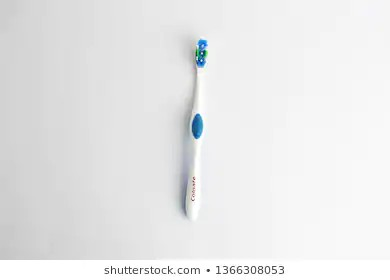toothbrush: (182, 36, 220, 222)
